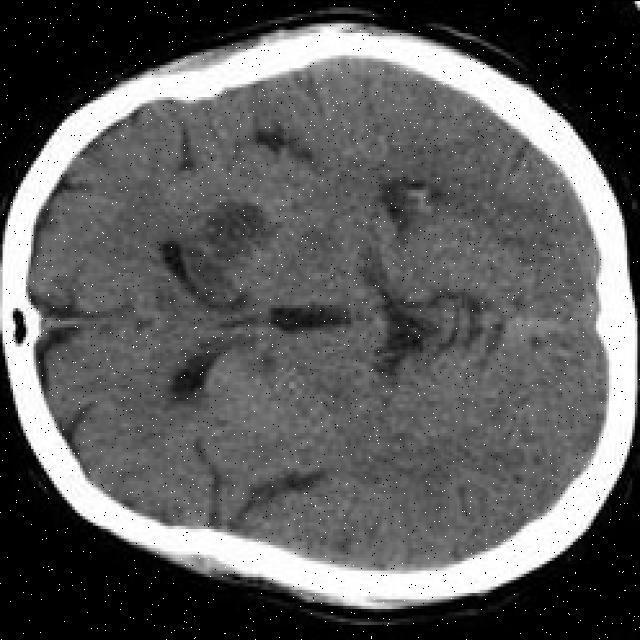No_Tumor: (0, 23, 636, 608)
